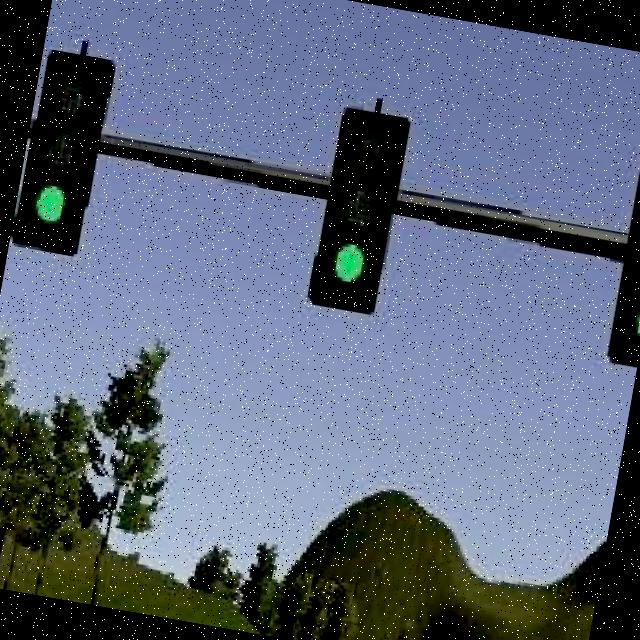Zielone swiatlo: (312, 104, 415, 314), (15, 49, 111, 254)
